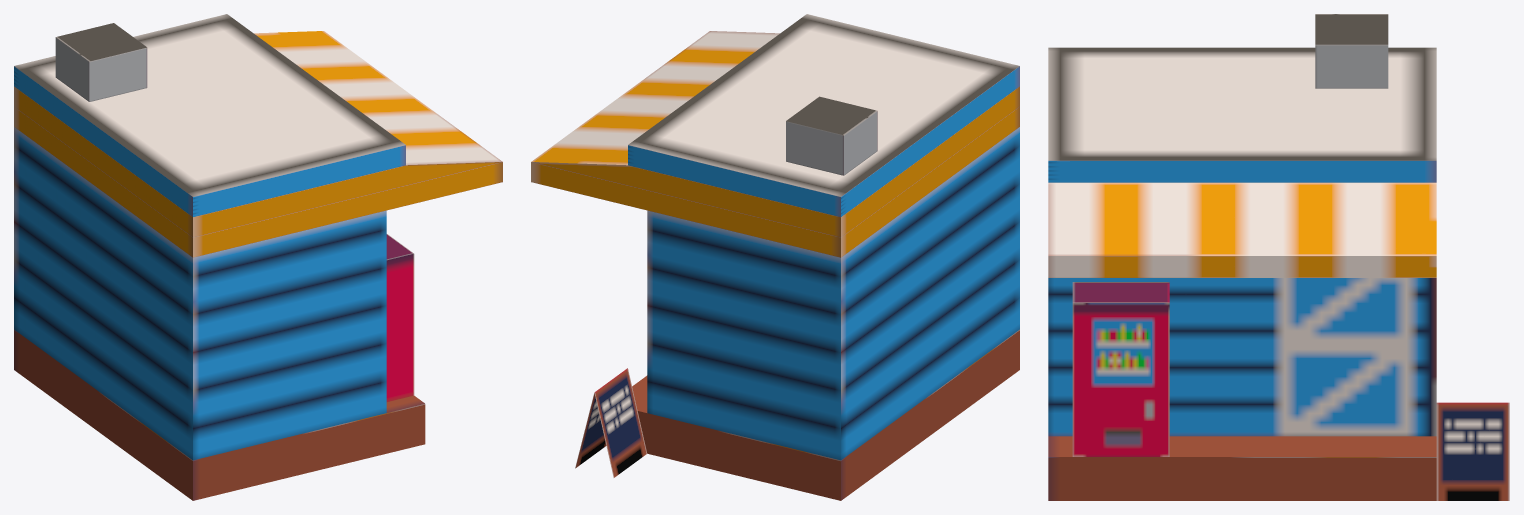
File: Beberage.gltf
The picture shows the model from 3 angles, left to right: view 1: azimuth 30°, elevation 25°; view 2: azimuth 150°, elevation 25°; view 3: azimuth 270°, elevation 25°; orthographic projection. The views are drawn at different scales.
Size of the model in its own units: 4 by 4.25 by 4.75.
1 material, 1 textured.
